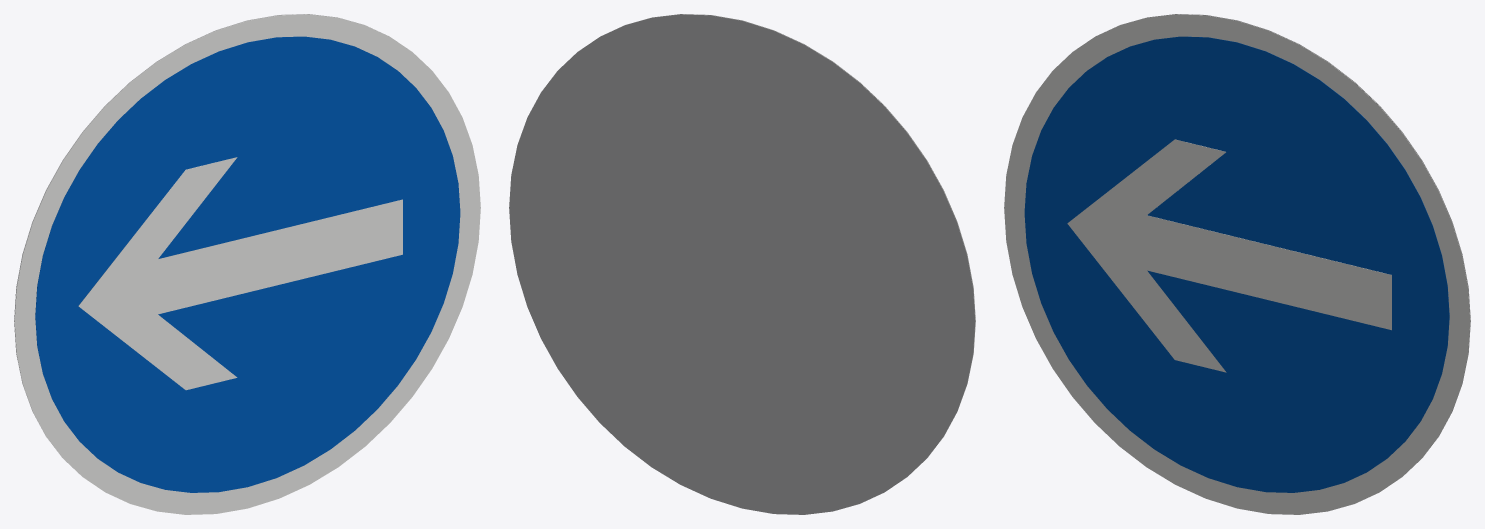
3 views of the same model, side by side, from view 1: azimuth 30°, elevation 25°; view 2: azimuth 150°, elevation 25°; view 3: azimuth 330°, elevation 25° (orthographic).
Parts seen in each view (by area): view 1: B21-2_p01, B21-2_p00, B21-2_p02, B21-2_dos; view 2: B21-2_dos, B21-2_p00; view 3: B21-2_p01, B21-2_p00, B21-2_p02, B21-2_dos.
Boxes of the visible parts, x1,y1,x2,y2 form: B21-2_p01: [35, 36, 460, 492]; B21-2_p00: [14, 14, 480, 514]; B21-2_p02: [78, 157, 402, 390]; B21-2_dos: [14, 14, 385, 473]; B21-2_dos: [509, 14, 975, 514]; B21-2_p00: [604, 14, 975, 473]; B21-2_p01: [1024, 36, 1449, 492]; B21-2_p00: [1004, 14, 1470, 514]; B21-2_p02: [1067, 139, 1391, 372]; B21-2_dos: [1099, 14, 1470, 473].
Bounding box in the file's own units: 0.85 × 0.8498 × 0.0027.
